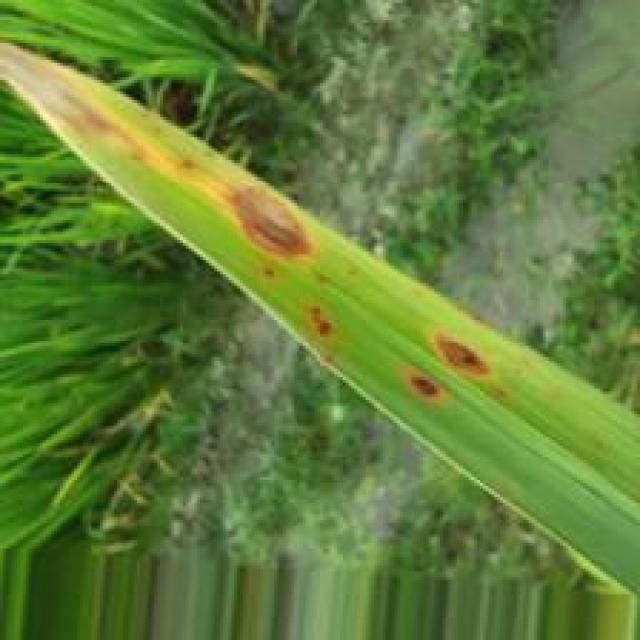Brown_Spot: (214, 181, 321, 267), (422, 324, 501, 385), (392, 356, 450, 404), (303, 301, 336, 345), (172, 155, 201, 179)
